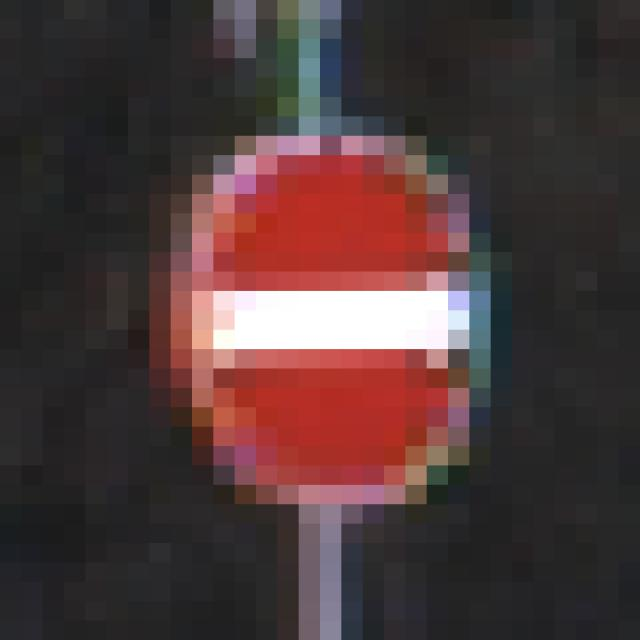No Entry: (129, 98, 534, 544)
